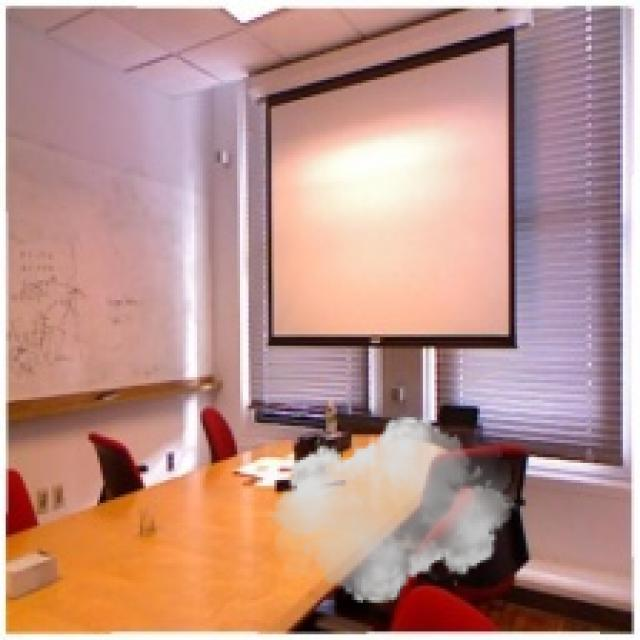Smoke: (268, 408, 518, 612)
